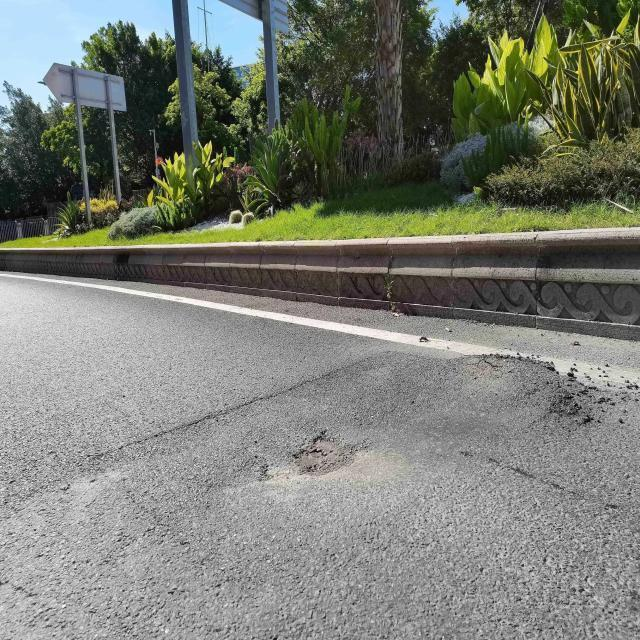pothole: (464, 347, 588, 431), (290, 433, 357, 483)
